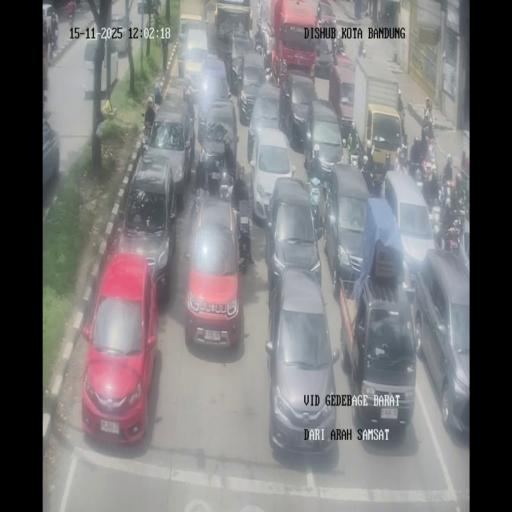3: (340, 266, 418, 438), (353, 57, 400, 165), (268, 0, 318, 85), (213, 2, 252, 43)
car: (82, 252, 160, 444), (266, 266, 337, 458), (412, 250, 469, 440), (184, 196, 244, 350), (384, 168, 438, 289), (325, 163, 372, 291), (143, 98, 194, 204), (249, 125, 296, 229), (305, 98, 344, 183), (280, 69, 316, 151), (82, 37, 118, 100), (197, 54, 231, 120), (237, 50, 267, 124), (176, 15, 204, 76), (42, 121, 60, 196), (108, 14, 129, 55), (313, 37, 333, 78), (42, 4, 58, 46), (315, 0, 334, 18)
truck: (306, 173, 326, 234), (236, 208, 254, 270), (188, 178, 206, 233), (347, 131, 366, 171), (217, 161, 235, 201), (421, 170, 440, 206), (440, 176, 459, 210), (442, 222, 462, 254), (430, 195, 444, 235), (424, 136, 438, 173), (370, 166, 385, 198), (422, 99, 434, 139), (408, 155, 424, 184), (396, 144, 410, 174), (141, 113, 154, 145), (182, 76, 196, 104), (254, 26, 266, 58), (332, 34, 345, 59), (264, 46, 274, 76), (397, 109, 406, 142), (358, 36, 366, 58), (68, 1, 75, 20), (361, 0, 368, 17), (154, 0, 161, 13), (74, 0, 81, 10)
